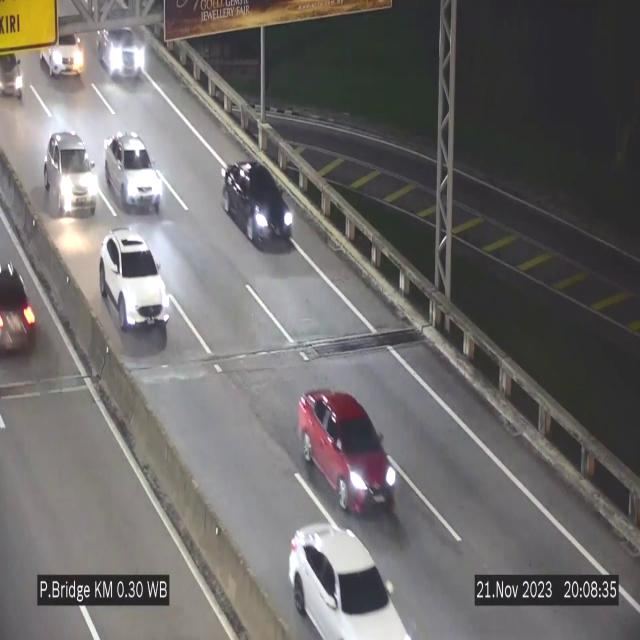Car: (290, 524, 410, 639), (296, 388, 396, 513), (100, 228, 170, 334), (222, 164, 294, 256), (44, 124, 100, 223), (92, 0, 150, 92), (0, 236, 42, 361), (105, 132, 162, 212), (37, 26, 87, 88), (0, 38, 28, 105)
